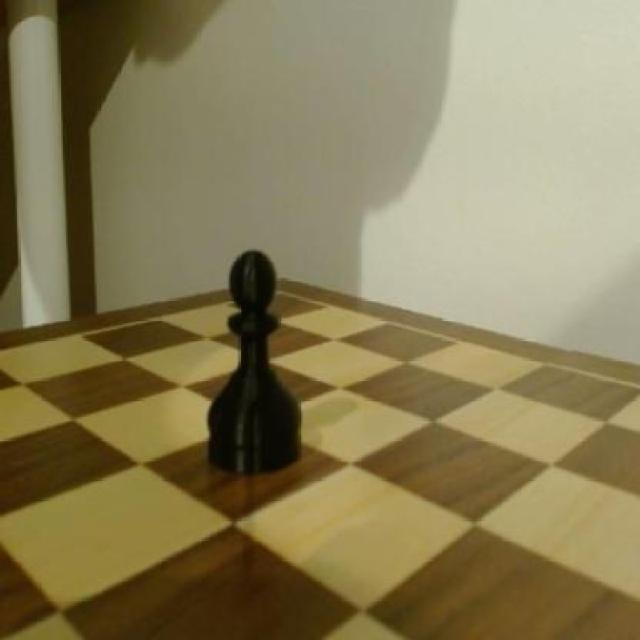black-knight: (204, 242, 308, 478)
